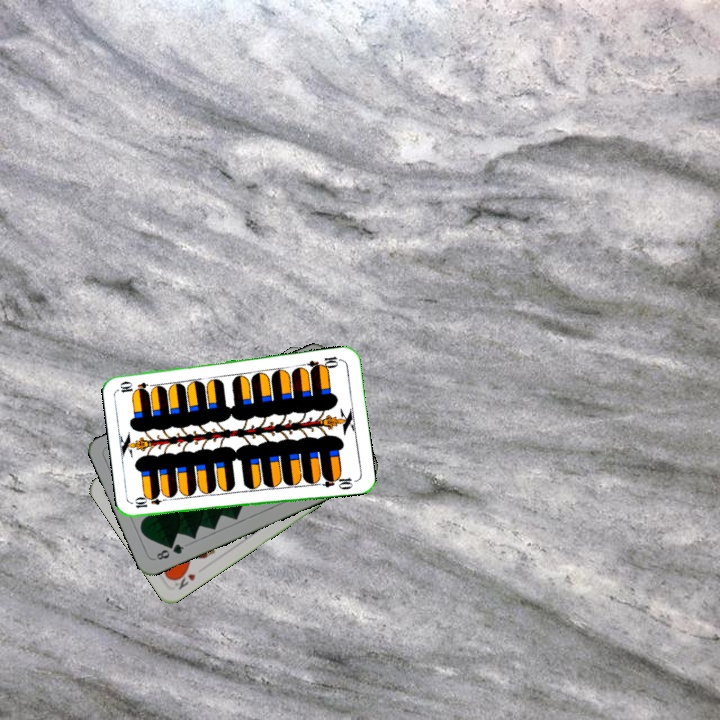E10: (304, 352, 344, 373), (131, 493, 171, 511)
G8: (152, 540, 187, 563)
HK: (169, 566, 198, 592)
